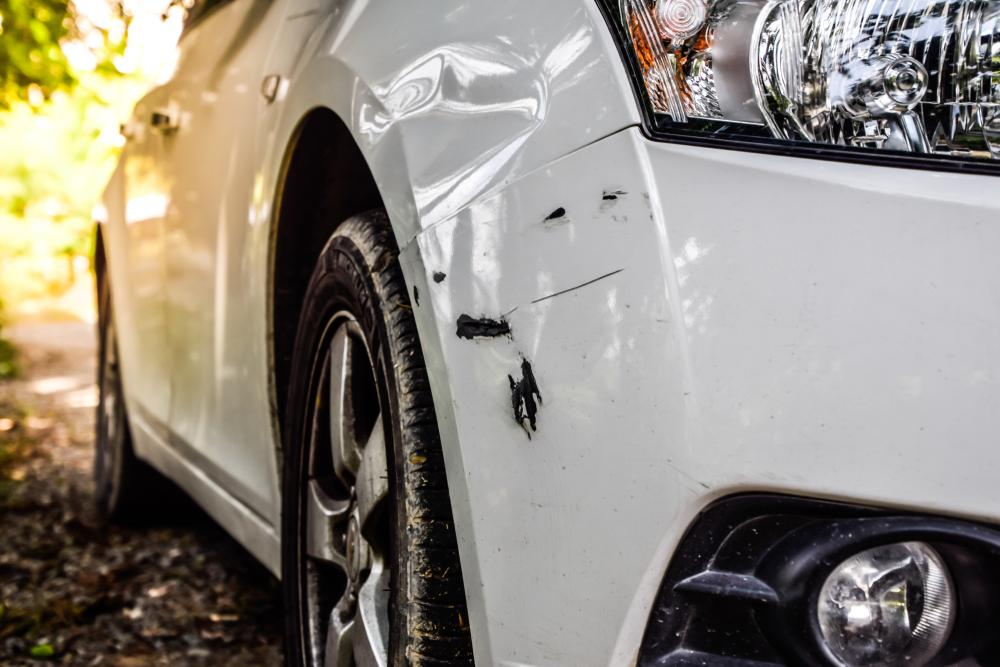dent: (357, 44, 546, 224)
scratch: (412, 183, 664, 452)
